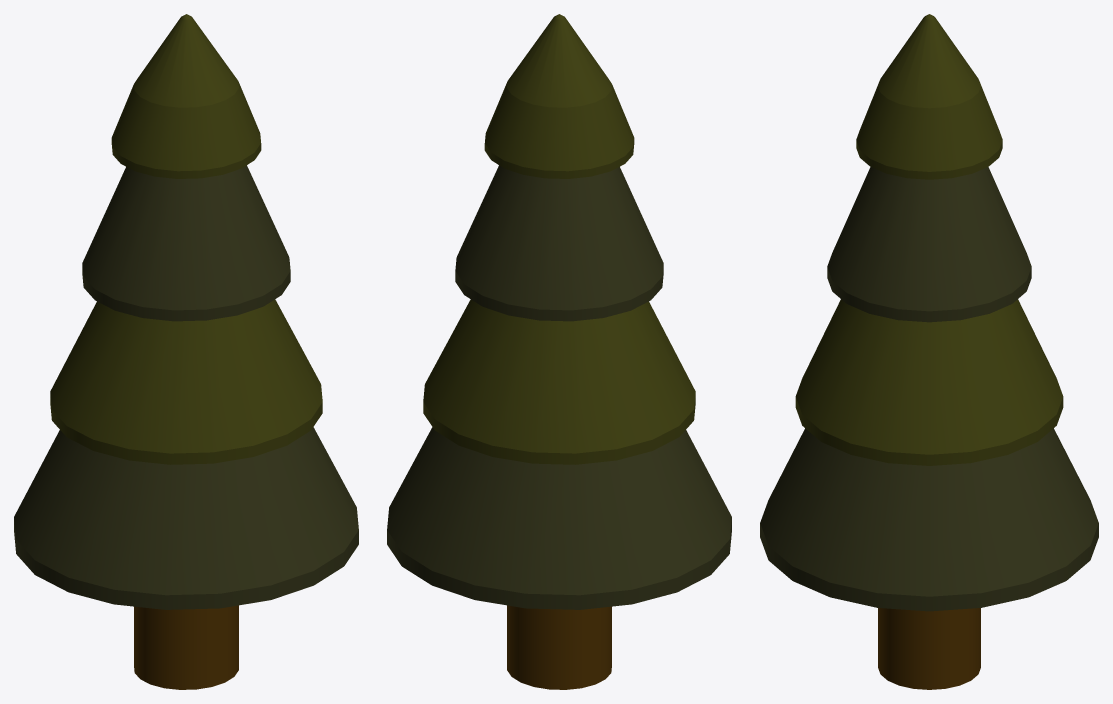
Rendered from Arbol_2.fbx.
3 views of the same model, side by side, from view 1: azimuth 30°, elevation 25°; view 2: azimuth 150°, elevation 25°; view 3: azimuth 270°, elevation 25° (orthographic).
Visible parts, largest first — view 1: pCylinder4; view 2: pCylinder4; view 3: pCylinder4.
Boxes of the visible parts, x1=… form: pCylinder4: x1=14, y1=14, x2=358, y2=689; pCylinder4: x1=387, y1=14, x2=731, y2=689; pCylinder4: x1=760, y1=14, x2=1098, y2=689.
Size of the model in its own units: 79.36 by 164 by 76.86.
